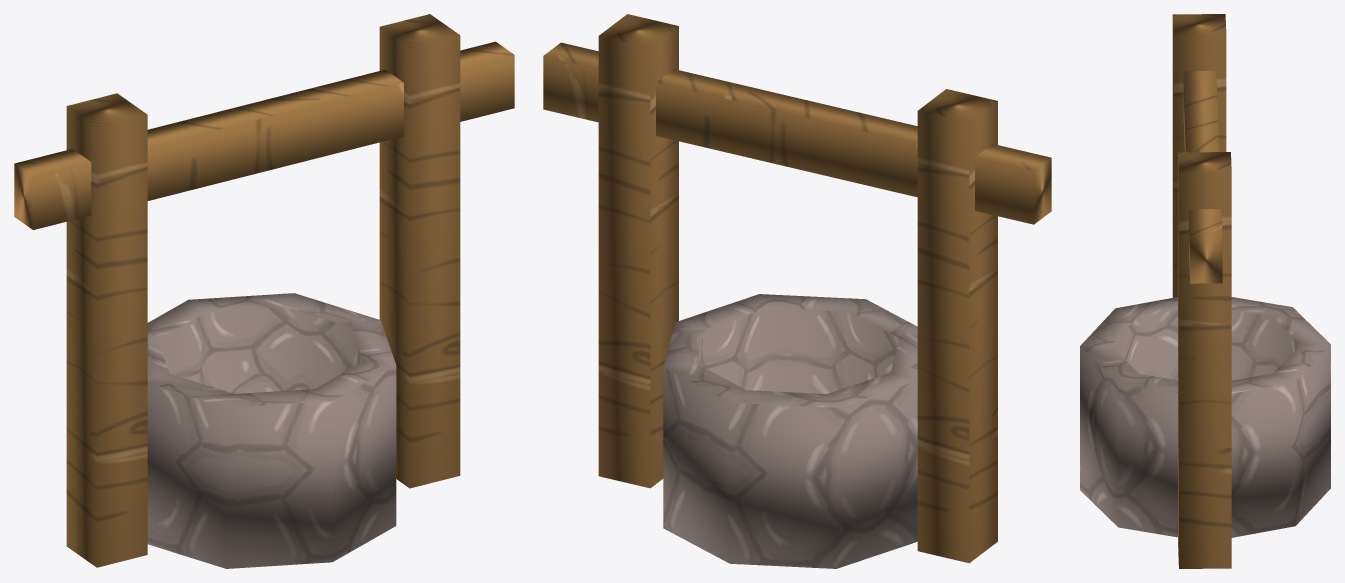
The model's file is ARC0710095.fbx.
The picture shows the model from 3 angles, left to right: view 1: azimuth 30°, elevation 25°; view 2: azimuth 150°, elevation 25°; view 3: azimuth 270°, elevation 25°; orthographic projection. The views are drawn at different scales.
Visible parts, largest first — view 1: smARC0710095; view 2: smARC0710095; view 3: smARC0710095.
Boxes of the visible parts, <box> form: smARC0710095: <box>14,14,514,568</box>; smARC0710095: <box>543,14,1051,568</box>; smARC0710095: <box>1080,14,1330,568</box>.
Size of the model in its own units: 377 by 327 by 188.
Materials: 1 (1 with a texture image).
